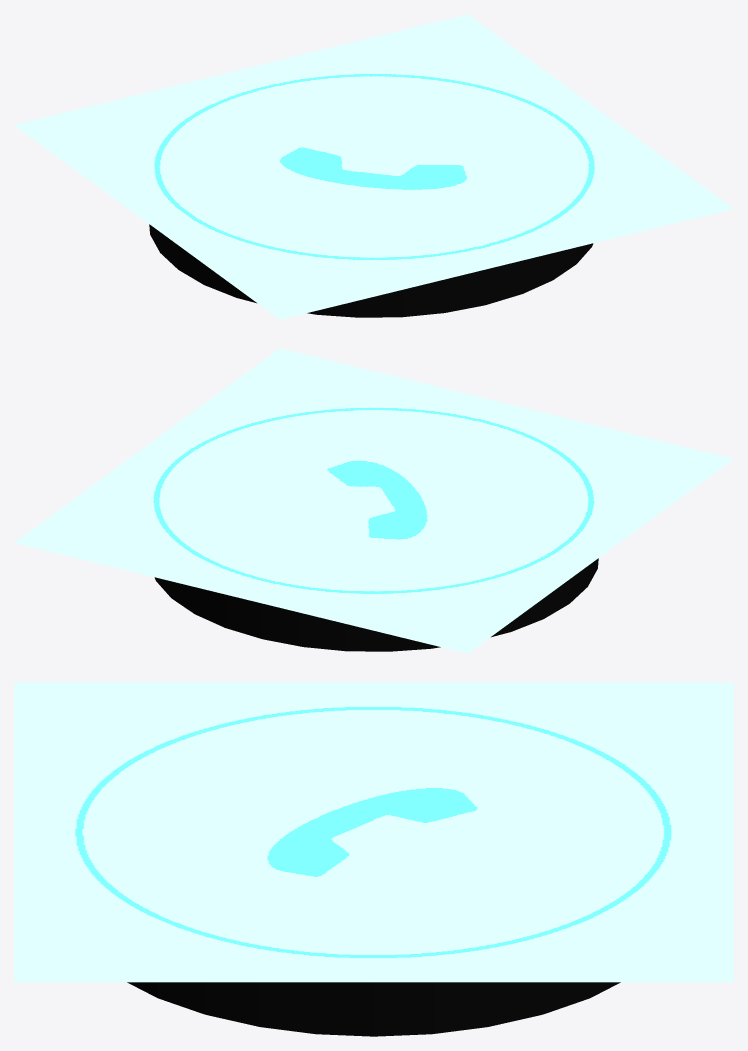
Rendered from phoneicon.glb.
3 views of the same model, one above another, from view 1: azimuth 30°, elevation 25°; view 2: azimuth 150°, elevation 25°; view 3: azimuth 270°, elevation 25° (orthographic). The views are drawn at different scales.
Visible parts, largest first — view 1: ARbusinesscardicons-04, Cylinder; view 2: ARbusinesscardicons-04, Cylinder; view 3: ARbusinesscardicons-04, Cylinder.
Boxes of the visible parts, x1,y1,x2,y2 form: ARbusinesscardicons-04: [14, 14, 733, 319]; Cylinder: [149, 224, 593, 317]; ARbusinesscardicons-04: [14, 348, 733, 653]; Cylinder: [154, 558, 598, 651]; ARbusinesscardicons-04: [14, 682, 733, 982]; Cylinder: [127, 982, 620, 1036].
Size of the model in its own units: 2.32 by 0.296 by 2.36.
2 materials, 1 textured.
